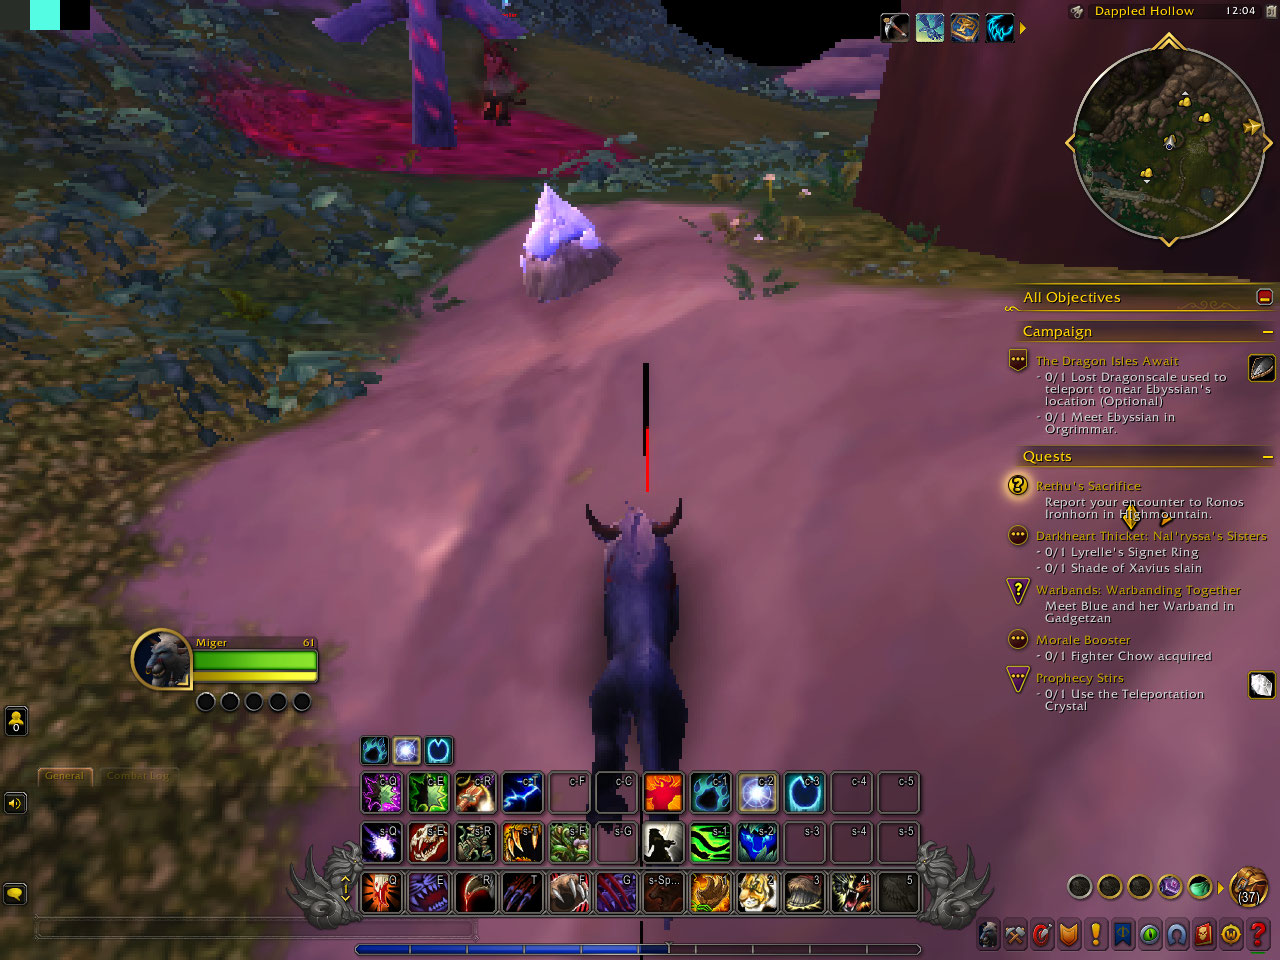ore: (518, 182, 622, 304)
